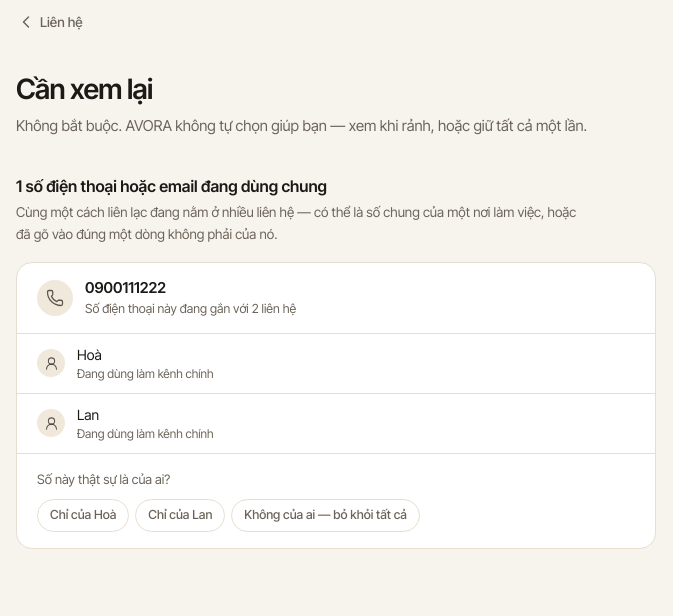
Test: nothing is chosen up front and choosing alone changes nothing
Expected: the text "Áp dụng" is not shown
Click the button "Chỉ của Hoà" at point(83, 515), box [37,499,129,532]
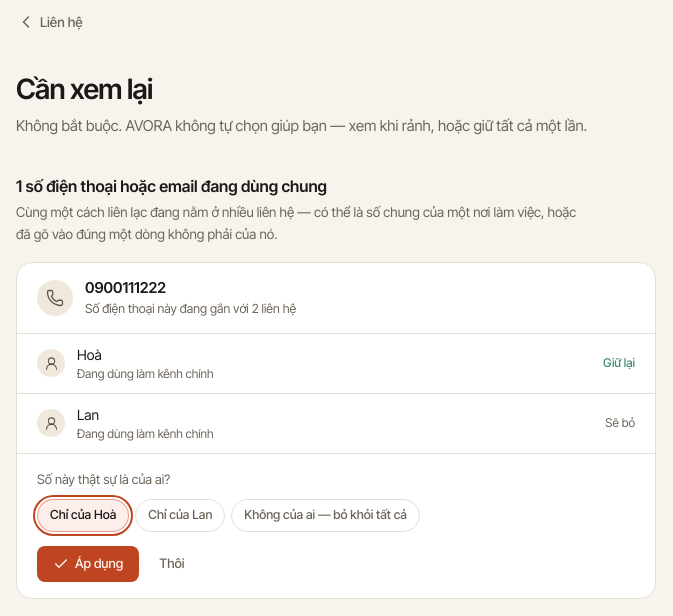
Result: the button "Áp dụng" is shown at [37,546,139,582]
